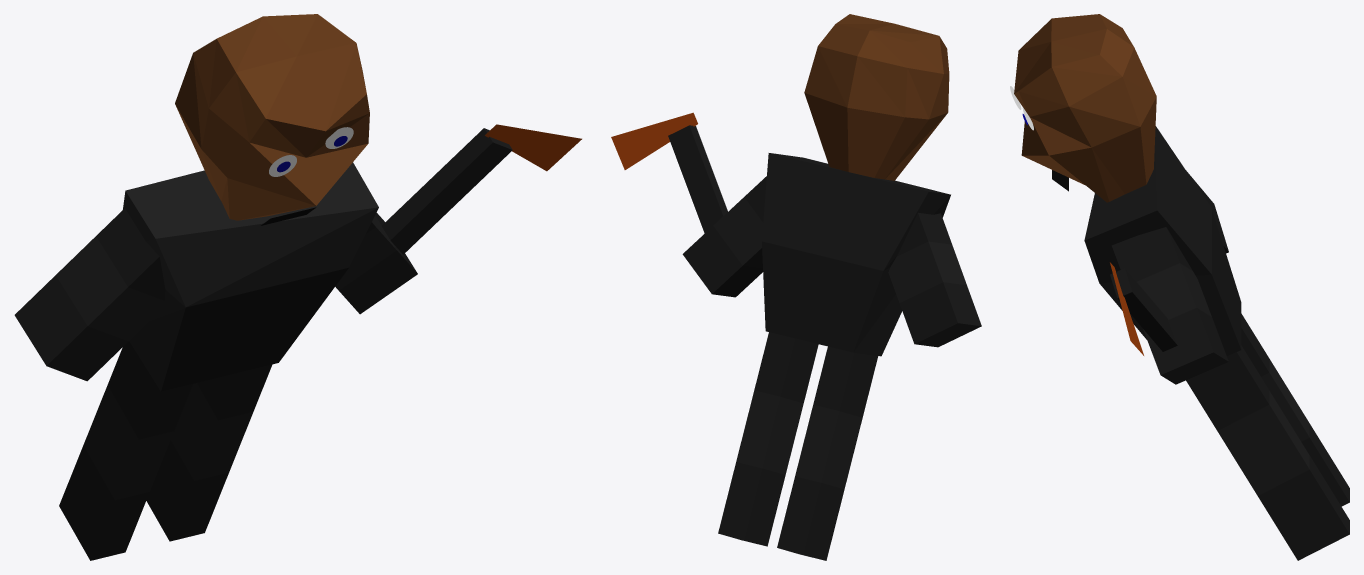
The model's file is axeman1d.obj.
3 views of the same model, side by side, from view 1: azimuth 30°, elevation 25°; view 2: azimuth 150°, elevation 25°; view 3: azimuth 270°, elevation 25° (orthographic). The views are drawn at different scales.
Parts seen in each view (by area): view 1: Cube.001, Cube, Cube.004, Cube.003, Cube.005, Cube.007, Cube.002, Plane.001; view 2: Cube.001, Cube, Cube.004, Cube.005, Cube.003, Cube.002, Cube.007, Plane.001; view 3: Cube, Cube.005, Cube.001, Cube.002, Cube.004, Cube.007, Plane.001.
Part boxes in pixels (left/top/right/bottom): Cube.001: left=123, top=162, right=378, bottom=391; Cube: left=175, top=14, right=369, bottom=220; Cube.004: left=59, top=341, right=192, bottom=560; Cube.003: left=14, top=208, right=165, bottom=381; Cube.005: left=146, top=364, right=272, bottom=541; Cube.007: left=381, top=128, right=512, bottom=254; Cube.002: left=335, top=212, right=417, bottom=314; Plane.001: left=485, top=124, right=581, bottom=171; Cube.001: left=762, top=153, right=950, bottom=356; Cube: left=804, top=14, right=949, bottom=180; Cube.004: left=777, top=346, right=878, bottom=560; Cube.005: left=718, top=332, right=818, bottom=546; Cube.003: left=888, top=212, right=981, bottom=347; Cube.002: left=682, top=176, right=766, bottom=297; Cube.007: left=668, top=125, right=727, bottom=233; Plane.001: left=611, top=112, right=697, bottom=169; Cube: left=1014, top=14, right=1156, bottom=202; Cube.005: left=1186, top=345, right=1349, bottom=560; Cube.001: left=1084, top=126, right=1241, bottom=355; Cube.002: left=1111, top=227, right=1228, bottom=384; Cube.004: left=1241, top=313, right=1349, bottom=506; Cube.007: left=1110, top=268, right=1177, bottom=351; Plane.001: left=1110, top=262, right=1143, bottom=355.
Bounding box in the file's own units: 5.1 × 5.79 × 3.5.
